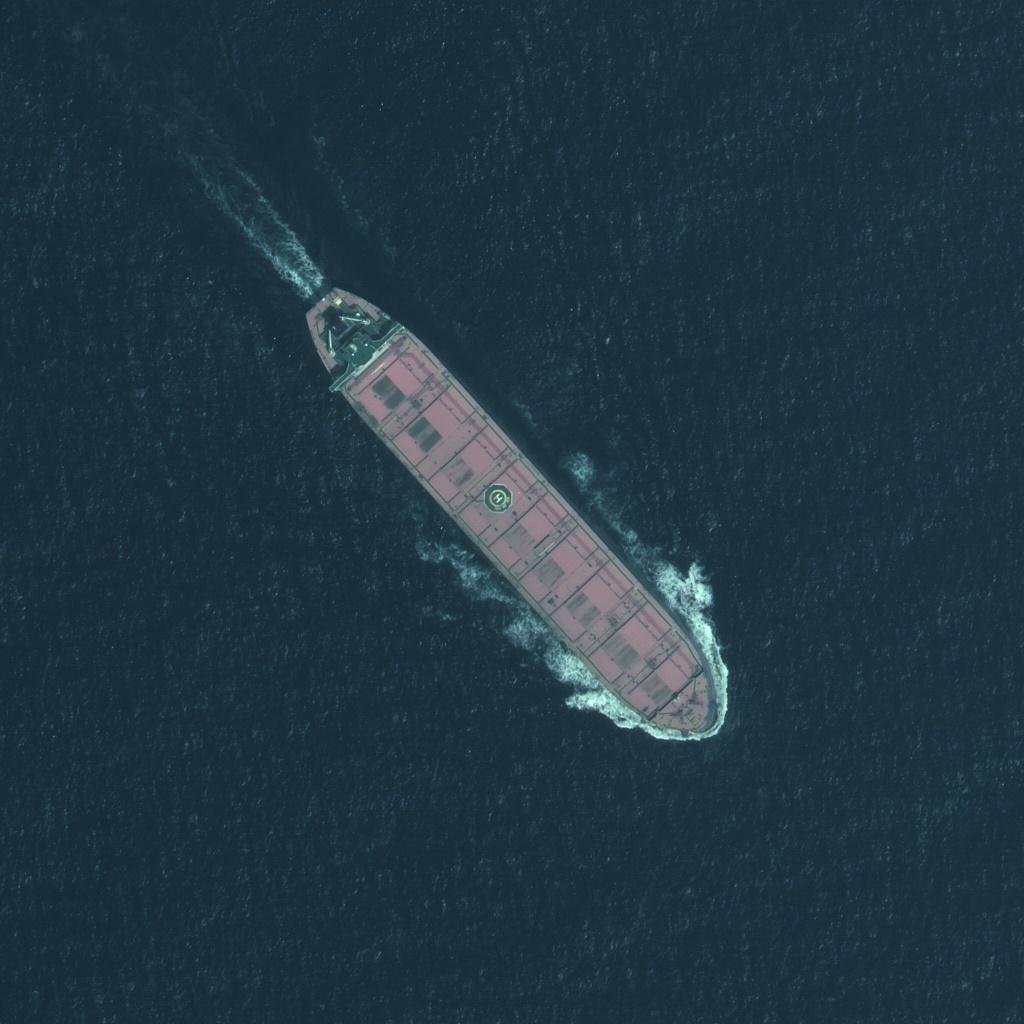ship: (305, 289, 722, 743)
